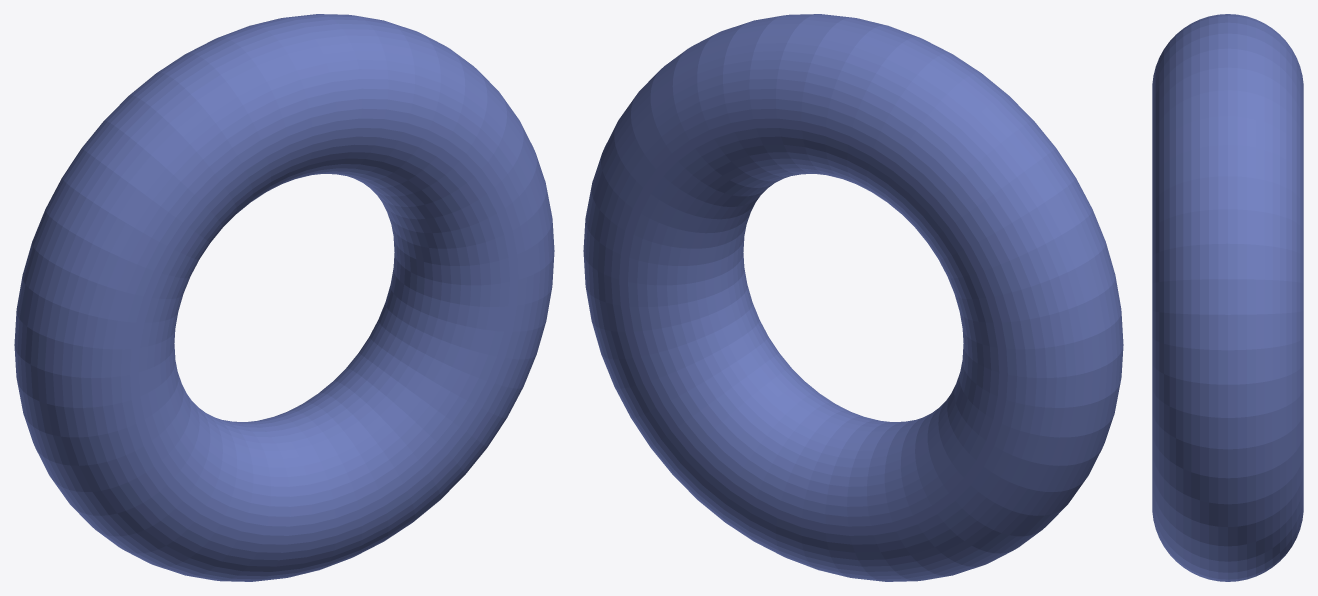
3 renders of one model, left to right at view 1: azimuth 30°, elevation 25°; view 2: azimuth 150°, elevation 25°; view 3: azimuth 270°, elevation 25°, orthographic. The views are drawn at different scales.
Visible parts, largest first — view 1: world; view 2: world; view 3: world.
Part boxes in pixels (x1=…): world: x1=14, y1=14, x2=554, y2=581; world: x1=583, y1=14, x2=1123, y2=581; world: x1=1152, y1=14, x2=1303, y2=581.
Bounding box in the file's own units: 15.47 × 15.44 × 4.13.
